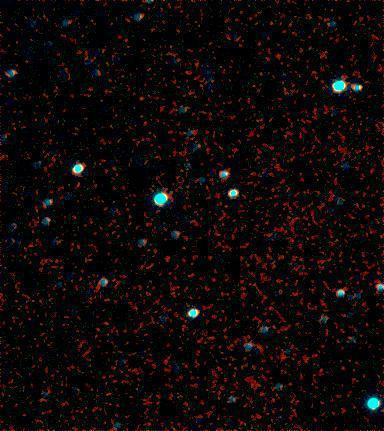star: (267, 341, 297, 371)
